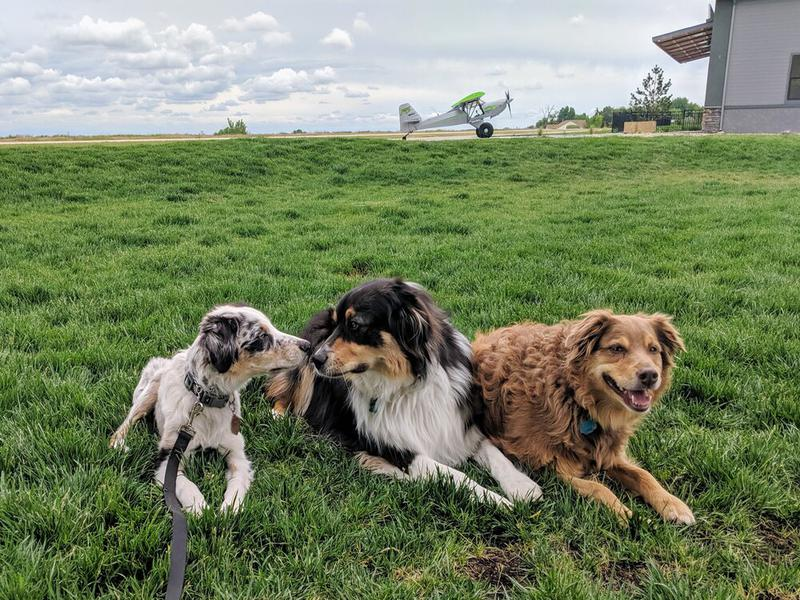dog_down: (267, 284, 542, 513), (472, 307, 701, 533), (109, 302, 312, 519)
